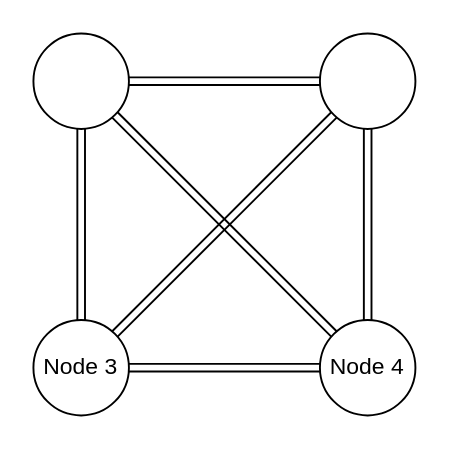
This 449x449 diagram has some shape labels left out. Each missing label, with the box of its shape:
Node 1: (32, 32, 129, 129)
Node 2: (318, 32, 415, 129)
